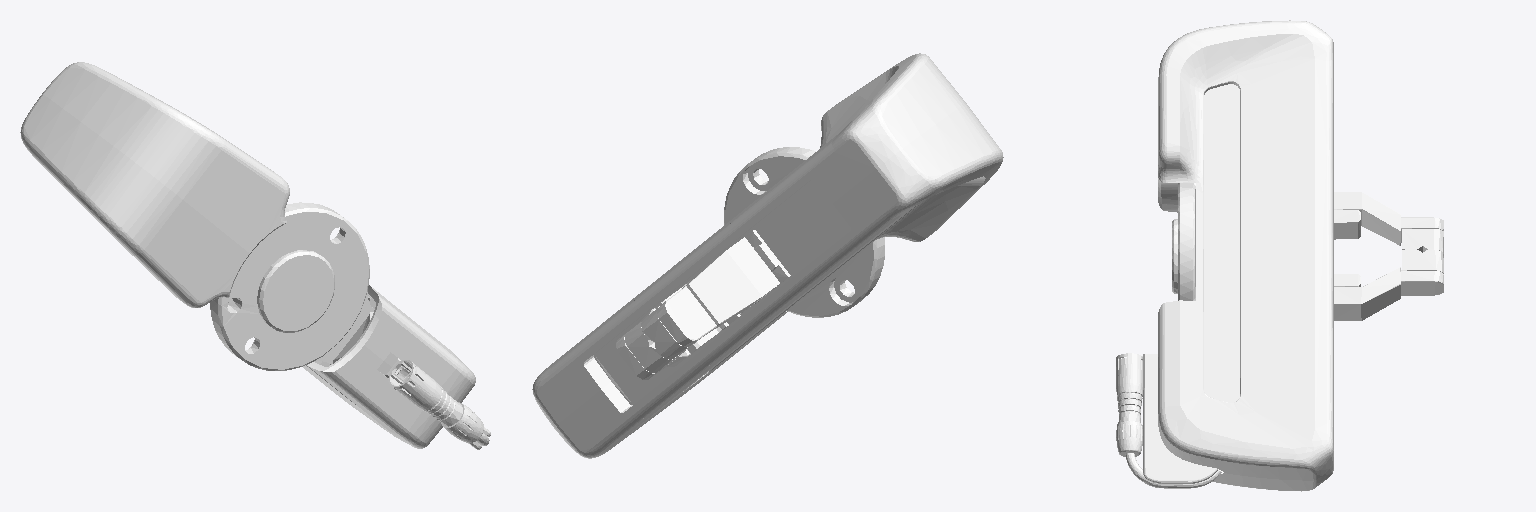
URDF robot description (ur5):
<?xml version="1.0" ?>
<!-- =================================================================================== -->
<!-- |    This document was autogenerated by xacro from [local-path]/devel/isae/install/share/hpp_practicals/urdf/ur5_joint_limited_robot.urdf.xacro | -->
<!-- |    EDITING THIS FILE BY HAND IS NOT RECOMMENDED                                 | -->
<!-- =================================================================================== -->


<robot name="ur5" xmlns:xacro="http://www.ros.org/wiki/xacro">

    <material name="panda_white">
        <color rgba="1. 1. 1. 1."/>
    </material>

  <link name="base_link">
    <visual>
      <geometry>
        <mesh filename="package://ur5/meshes/visual/base.dae"/>
      </geometry>
      <material name="LightGrey">
        <color rgba="0.7 0.7 0.7 1.0"/>
      </material>
    </visual>
    <collision>
      <geometry>
        <mesh filename="package://ur5/meshes/collision/base.stl"/>
      </geometry>
    </collision>
    <inertial>
      <mass value="4.0"/>
      <origin rpy="0 0 0" xyz="0.0 0.0 0.0"/>
      <inertia ixx="0.00443333156" ixy="0.0" ixz="0.0" iyy="0.00443333156" iyz="0.0" izz="0.0072"/>
    </inertial>
  </link>
  <joint name="shoulder_pan_joint" type="revolute">
    <parent link="base_link"/>
    <child link="shoulder_link"/>
    <origin rpy="0.0 0.0 0.0" xyz="0.0 0.0 0.089159"/>
    <axis xyz="0 0 1"/>
    <limit effort="150.0" lower="-3.14159265" upper="3.14159265" velocity="3.15"/>
    <dynamics damping="0.0" friction="0.0"/>
  </joint>
  <link name="shoulder_link">
    <visual>
      <geometry>
        <mesh filename="package://ur5/meshes/visual/shoulder.dae"/>
      </geometry>
      <material name="LightGrey">
        <color rgba="0.7 0.7 0.7 1.0"/>
      </material>
    </visual>
    <collision>
      <geometry>
        <mesh filename="package://ur5/meshes/collision/shoulder.stl"/>
      </geometry>
    </collision>
    <inertial>
      <mass value="3.7"/>
      <origin rpy="0 0 0" xyz="0.0 0.0 0.0"/>
      <inertia ixx="0.010267495893" ixy="0.0" ixz="0.0" iyy="0.010267495893" iyz="0.0" izz="0.00666"/>
    </inertial>
  </link>
  <joint name="shoulder_lift_joint" type="revolute">
    <parent link="shoulder_link"/>
    <child link="upper_arm_link"/>
    <origin rpy="0.0 1.570796325 0.0" xyz="0.0 0.13585 0.0"/>
    <axis xyz="0 1 0"/>
    <limit effort="150.0" lower="-3.14159265" upper="3.14159265" velocity="3.15"/>
    <dynamics damping="0.0" friction="0.0"/>
  </joint>
  <link name="upper_arm_link">
    <visual>
      <geometry>
        <mesh filename="package://ur5/meshes/visual/upperarm.dae"/>
      </geometry>
      <material name="LightGrey">
        <color rgba="0.7 0.7 0.7 1.0"/>
      </material>
    </visual>
    <collision>
      <geometry>
        <mesh filename="package://ur5/meshes/collision/upperarm.stl"/>
      </geometry>
    </collision>
    <inertial>
      <mass value="8.393"/>
      <origin rpy="0 0 0" xyz="0.0 0.0 0.28"/>
      <inertia ixx="0.22689067591" ixy="0.0" ixz="0.0" iyy="0.22689067591" iyz="0.0" izz="0.0151074"/>
    </inertial>
  </link>
  <joint name="elbow_joint" type="revolute">
    <parent link="upper_arm_link"/>
    <child link="forearm_link"/>
    <origin rpy="0.0 0.0 0.0" xyz="0.0 -0.1197 0.425"/>
    <axis xyz="0 1 0"/>
    <limit effort="150.0" lower="-3.14159265" upper="3.14159265" velocity="3.15"/>
    <dynamics damping="0.0" friction="0.0"/>
  </joint>
  <link name="forearm_link">
    <visual>
      <geometry>
        <mesh filename="package://ur5/meshes/visual/forearm.dae"/>
      </geometry>
      <material name="LightGrey">
        <color rgba="0.7 0.7 0.7 1.0"/>
      </material>
    </visual>
    <collision>
      <geometry>
        <mesh filename="package://ur5/meshes/collision/forearm.stl"/>
      </geometry>
    </collision>
    <inertial>
      <mass value="2.275"/>
      <origin rpy="0 0 0" xyz="0.0 0.0 0.25"/>
      <inertia ixx="0.049443313556" ixy="0.0" ixz="0.0" iyy="0.049443313556" iyz="0.0" izz="0.004095"/>
    </inertial>
  </link>
  <joint name="wrist_1_joint" type="revolute">
    <parent link="forearm_link"/>
    <child link="wrist_1_link"/>
    <origin rpy="0.0 1.570796325 0.0" xyz="0.0 0.0 0.39225"/>
    <axis xyz="0 1 0"/>
    <limit effort="28.0" lower="-3.14159265" upper="3.14159265" velocity="3.2"/>
    <dynamics damping="0.0" friction="0.0"/>
  </joint>
  <link name="wrist_1_link">
    <visual>
      <geometry>
        <mesh filename="package://ur5/meshes/visual/wrist1.dae"/>
      </geometry>
      <material name="LightGrey">
        <color rgba="0.7 0.7 0.7 1.0"/>
      </material>
    </visual>
    <collision>
      <geometry>
        <mesh filename="package://ur5/meshes/collision/wrist1.stl"/>
      </geometry>
    </collision>
    <inertial>
      <mass value="1.219"/>
      <origin rpy="0 0 0" xyz="0.0 0.0 0.0"/>
      <inertia ixx="0.111172755531" ixy="0.0" ixz="0.0" iyy="0.111172755531" iyz="0.0" izz="0.21942"/>
    </inertial>
  </link>
  <joint name="wrist_2_joint" type="revolute">
    <parent link="wrist_1_link"/>
    <child link="wrist_2_link"/>
    <origin rpy="0.0 0.0 0.0" xyz="0.0 0.093 0.0"/>
    <axis xyz="0 0 1"/>
    <limit effort="28.0" lower="-3.14159265" upper="3.14159265" velocity="3.2"/>
    <dynamics damping="0.0" friction="0.0"/>
  </joint>
  <link name="wrist_2_link">
    <visual>
      <geometry>
        <mesh filename="package://ur5/meshes/visual/wrist2.dae"/>
      </geometry>
      <material name="LightGrey">
        <color rgba="0.7 0.7 0.7 1.0"/>
      </material>
    </visual>
    <collision>
      <geometry>
        <mesh filename="package://ur5/meshes/collision/wrist2.stl"/>
      </geometry>
    </collision>
    <inertial>
      <mass value="1.219"/>
      <origin rpy="0 0 0" xyz="0.0 0.0 0.0"/>
      <inertia ixx="0.111172755531" ixy="0.0" ixz="0.0" iyy="0.111172755531" iyz="0.0" izz="0.21942"/>
    </inertial>
  </link>
  <joint name="wrist_3_joint" type="revolute">
    <parent link="wrist_2_link"/>
    <child link="wrist_3_link"/>
    <origin rpy="0.0 0.0 0.0" xyz="0.0 0.0 0.09465"/>
    <axis xyz="0 1 0"/>
    <limit effort="28.0" lower="-3.14159265" upper="3.14159265" velocity="3.2"/>
    <dynamics damping="0.0" friction="0.0"/>
  </joint>
  <link name="wrist_3_link">
    <visual>
      <geometry>
        <mesh filename="package://ur5/meshes/visual/wrist3.dae"/>
      </geometry>
      <material name="LightGrey">
        <color rgba="0.7 0.7 0.7 1.0"/>
      </material>
    </visual>
    <collision>
      <geometry>
        <mesh filename="package://ur5/meshes/collision/wrist3.stl"/>
      </geometry>
    </collision>
    <inertial>
      <mass value="0.1879"/>
      <origin rpy="0 0 0" xyz="0.0 0.0 0.0"/>
      <inertia ixx="0.0171364731454" ixy="0.0" ixz="0.0" iyy="0.0171364731454" iyz="0.0" izz="0.033822"/>
    </inertial>
  </link>

  <link name="tool0">
    <inertial>
      <mass value="0.1"/>
      <origin rpy="0 0 0" xyz="0.0 0.0 0.0"/>
      <inertia ixx="0.0" ixy="0.0" ixz="0.0" iyy="0.0" iyz="0.0" izz="0.0"/>
    </inertial>
  </link>

  <joint name="wrist_3_link-tool0_fixed_joint" type="fixed">
    <origin rpy="-1.570796325 0 0" xyz="0 0.0823 0"/>
    <parent link="wrist_3_link"/>
    <child link="tool0"/>
  </joint>

    <joint name="panda_hand_joint" type="fixed">
        <parent link="tool0"/>
        <child link="panda_hand"/>
        <origin rpy="0 0 -0.785398163397" xyz="0 0 0"/>
    </joint>

    <link name="panda_hand">
        <inertial>
            <origin rpy="0 0 0" xyz="0 0 0.04"/>
            <mass value="0.81"/>
            <inertia ixx="0.1" ixy="0" ixz="0" iyy="0.1" iyz="0" izz="0.1"/>
        </inertial>
        <visual>
            <geometry>
                <mesh filename="package://franka_panda/meshes/visual/hand.dae"/>
            </geometry>
            <material name="panda_white"/>
        </visual>
        <collision>
            <geometry>
                <mesh filename="package://franka_panda/meshes/collision/hand.stl"/>
            </geometry>
            <material name="panda_white"/>
        </collision>
    </link>

    <link name="panda_leftfinger">
        <inertial>
            <origin rpy="0 0 0" xyz="0 0.01 0.02"/>
            <mass value="0.1"/>
            <inertia ixx="0.1" ixy="0" ixz="0" iyy="0.1" iyz="0" izz="0.1"/>
        </inertial>
        <visual>
            <geometry>
                <mesh filename="package://franka_panda/meshes/visual/finger.dae"/>
            </geometry>
            <material name="panda_white"/>
        </visual>
        <collision>
            <geometry>
                <mesh filename="package://franka_panda/meshes/collision/finger.stl"/>
            </geometry>
            <material name="panda_white"/>
        </collision>
    </link>

    <link name="panda_rightfinger">
        <inertial>
            <origin rpy="0 0 0" xyz="0 -0.01 0.02"/>
            <mass value="0.1"/>
            <inertia ixx="0.1" ixy="0" ixz="0" iyy="0.1" iyz="0" izz="0.1"/>
        </inertial>
        <visual>
            <origin rpy="0 0 3.14159265359" xyz="0 0 0"/>
            <geometry>
                <mesh filename="package://franka_panda/meshes/visual/finger.dae"/>
            </geometry>
            <material name="panda_white"/>
        </visual>
        <collision>
            <origin rpy="0 0 3.14159265359" xyz="0 0 0"/>
            <geometry>
                <mesh filename="package://franka_panda/meshes/collision/finger.stl"/>
            </geometry>
            <material name="panda_white"/>
        </collision>
    </link>

    <joint name="panda_finger_joint1" type="prismatic">
        <parent link="panda_hand"/>
        <child link="panda_leftfinger"/>
        <origin rpy="0 0 0" xyz="0 0 0.0584"/>
        <axis xyz="0 1 0"/>
        <limit effort="20" lower="0.0" upper="0.04" velocity="0.2"/>
    </joint>
    <joint name="panda_finger_joint2" type="prismatic">
        <parent link="panda_hand"/>
        <child link="panda_rightfinger"/>
        <origin rpy="0 0 0" xyz="0 0 0.0584"/>
        <axis xyz="0 -1 0"/>
        <limit effort="20" lower="0.0" upper="0.04" velocity="0.2"/>
        <mimic joint="panda_finger_joint1"/>
    </joint>
</robot>

--- What the picture shows (computed from the rendered views, not written in the file) ---
The picture shows the robot from 3 angles, left to right: view 1: azimuth 30°, elevation 25°; view 2: azimuth 150°, elevation 25°; view 3: azimuth 270°, elevation 25°; orthographic projection.
Model ur5 with 11 links and 10 joints (6 revolute, 2 prismatic, 2 fixed), rooted at base_link, posed all joints at 0.
Links seen in each view (by area): view 1: panda_hand; view 2: panda_hand, panda_leftfinger, panda_rightfinger; view 3: panda_hand, panda_rightfinger, panda_leftfinger.
Boxes of the visible links, left/top/right/bottom form: panda_hand: left=20, top=62, right=490, bottom=449; panda_hand: left=532, top=53, right=1003, bottom=458; panda_leftfinger: left=641, top=230, right=790, bottom=359; panda_rightfinger: left=616, top=280, right=740, bottom=379; panda_hand: left=1116, top=20, right=1333, bottom=491; panda_rightfinger: left=1334, top=249, right=1443, bottom=320; panda_leftfinger: left=1334, top=192, right=1443, bottom=255.
Bounding box of the posed robot: 0.1649 × 0.1382 × 0.1649 m (x, y, z).
Meshes: 9 distinct files referenced, 3 mesh visuals loaded (2 Collada DAE); not drawn: 7 (reference not matched to a file when rendering).